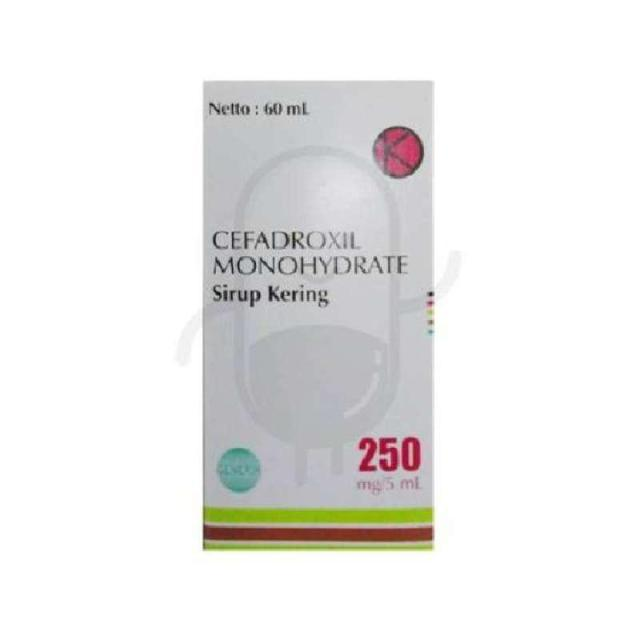drug-name: (211, 224, 418, 283)
